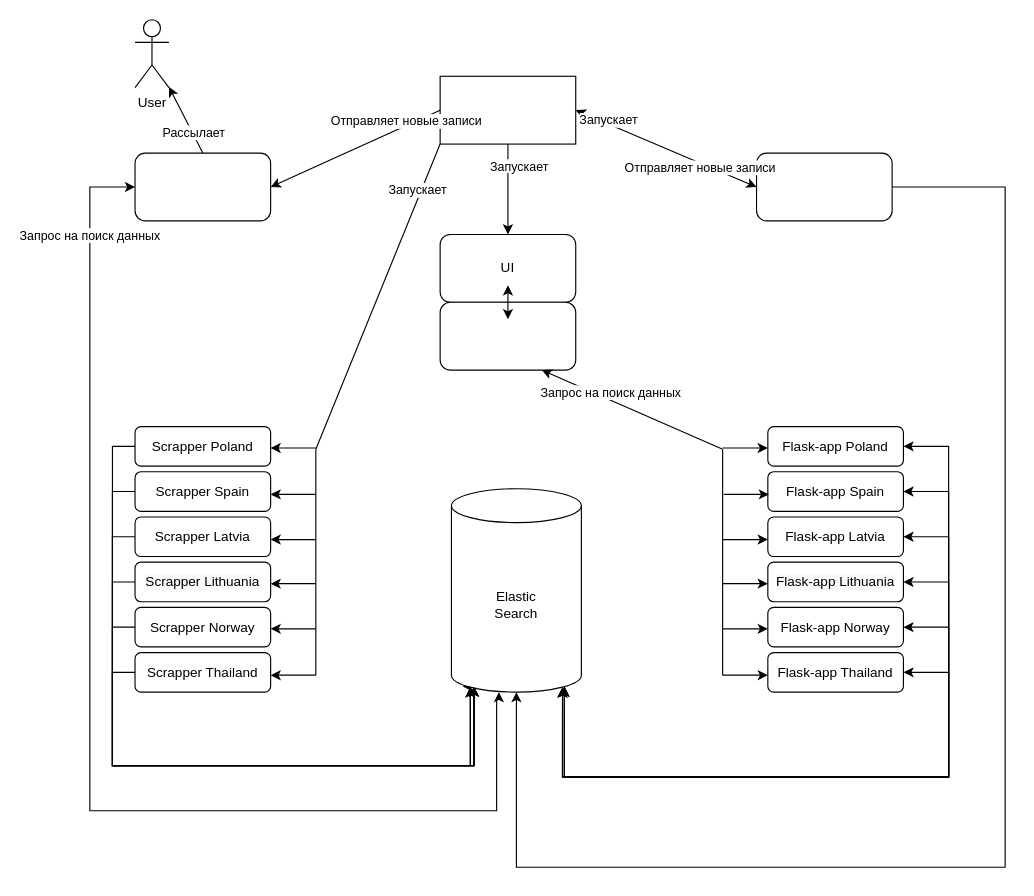
This 1034x896 diagram has some shape labels left out. The shapes that lost their labels are listed below. From the top down, each one's centre as x and y in pixels, then its label:
At point 507,109: "Orchestration".
At point 202,186: "Mail module".
At point 823,186: "Real-time module".
At point 507,335: "Back-end".
